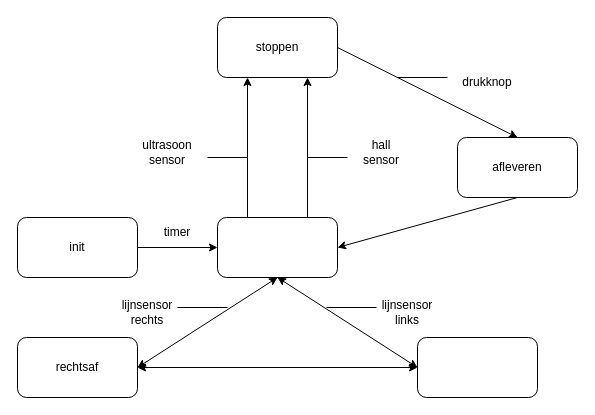
This 595x415 diagram has some shape labels left out. Each missing label, with the centre of its shape:
linksaf: the point at 477,367
vooruit: the point at 277,247
